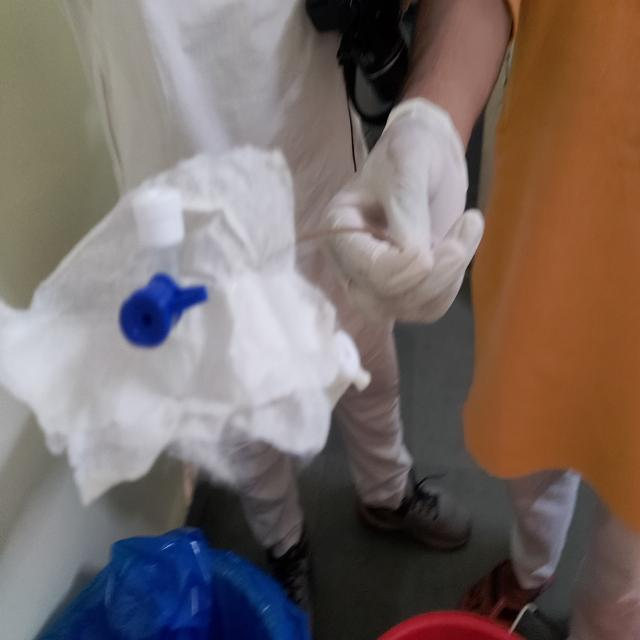B3: (121, 269, 210, 348)
